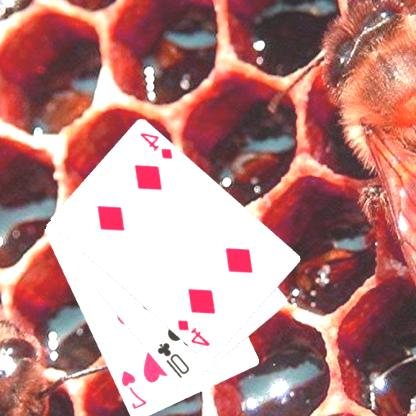10C: (156, 340, 193, 380)
4D: (176, 318, 214, 349), (139, 130, 176, 161)
7H: (120, 368, 150, 411)
